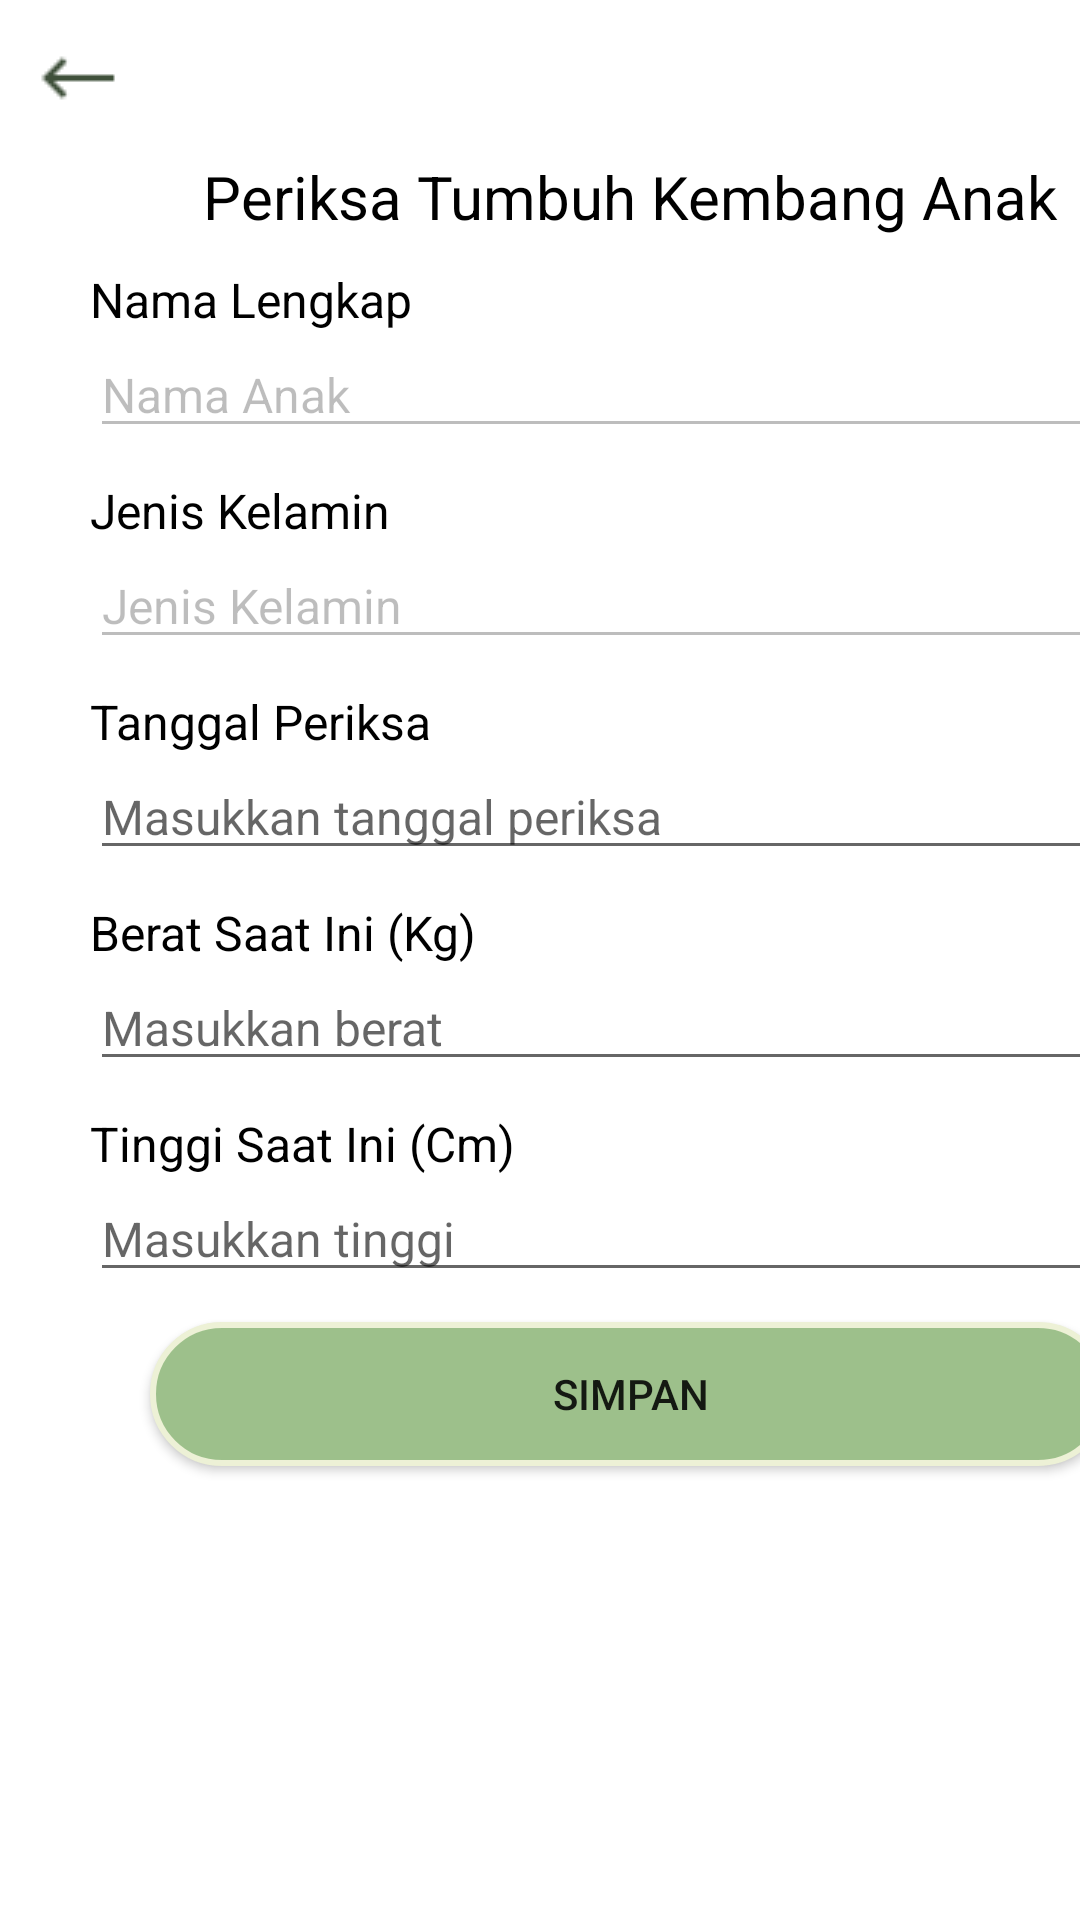

Where to tap for icons on this 1080*1920 app screen, as point (x, y):
left arrow: point (78, 78)
